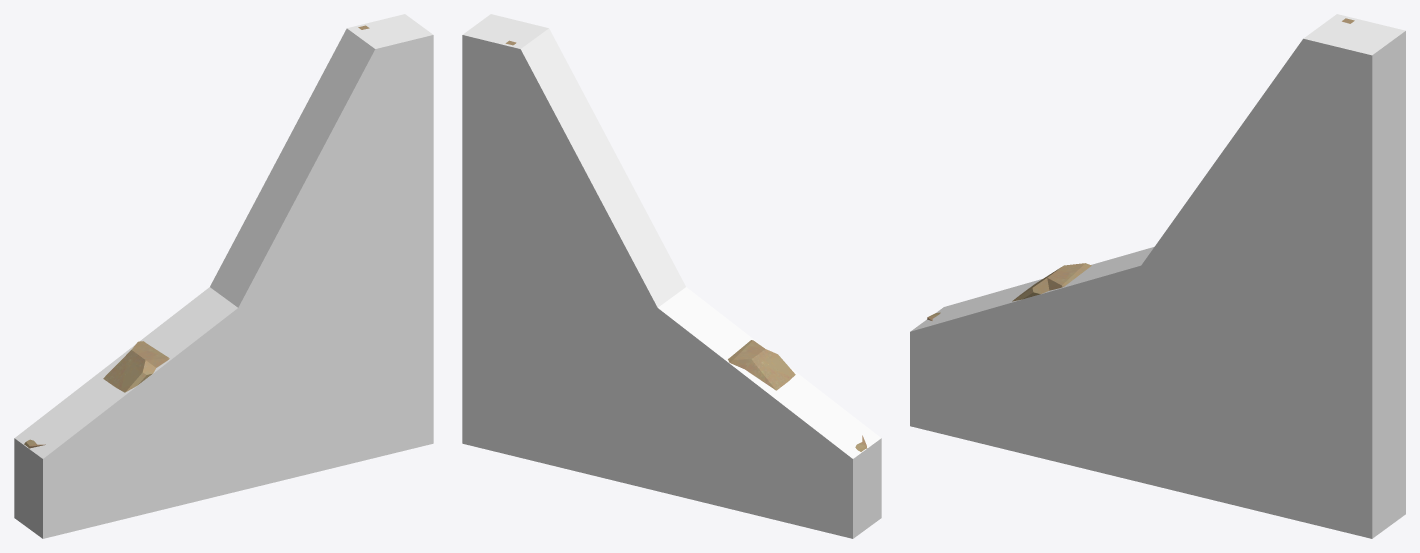
File: BrokenWall_Full_B_Corner_R.fbx
3 renders of one model, left to right at view 1: azimuth 30°, elevation 25°; view 2: azimuth 150°, elevation 25°; view 3: azimuth 330°, elevation 25°, orthographic. The views are drawn at different scales.
Parts seen in each view (by area): view 1: BrokenWall_B_Corner_R_COL, BrokenWall_B_Corner_R; view 2: BrokenWall_B_Corner_R_COL, BrokenWall_B_Corner_R; view 3: BrokenWall_B_Corner_R_COL, BrokenWall_B_Corner_R.
Part boxes in pixels (x1,y1,x2,y2): BrokenWall_B_Corner_R_COL: [14, 14, 433, 538]; BrokenWall_B_Corner_R: [24, 25, 369, 448]; BrokenWall_B_Corner_R_COL: [462, 14, 881, 538]; BrokenWall_B_Corner_R: [505, 40, 867, 451]; BrokenWall_B_Corner_R_COL: [910, 14, 1405, 538]; BrokenWall_B_Corner_R: [927, 18, 1354, 320].
Bounding box in the file's own units: 400 × 400 × 50.61.
